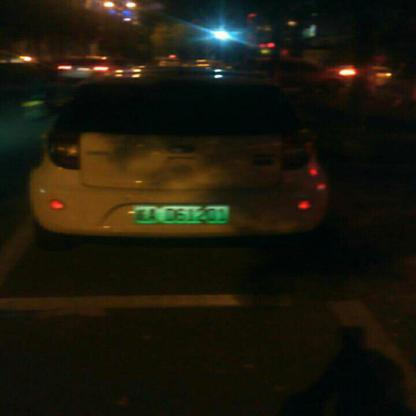lp: (132, 203, 230, 225)
